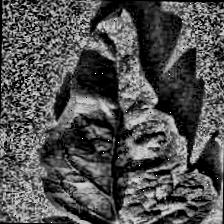spider mites: (41, 7, 221, 224)
